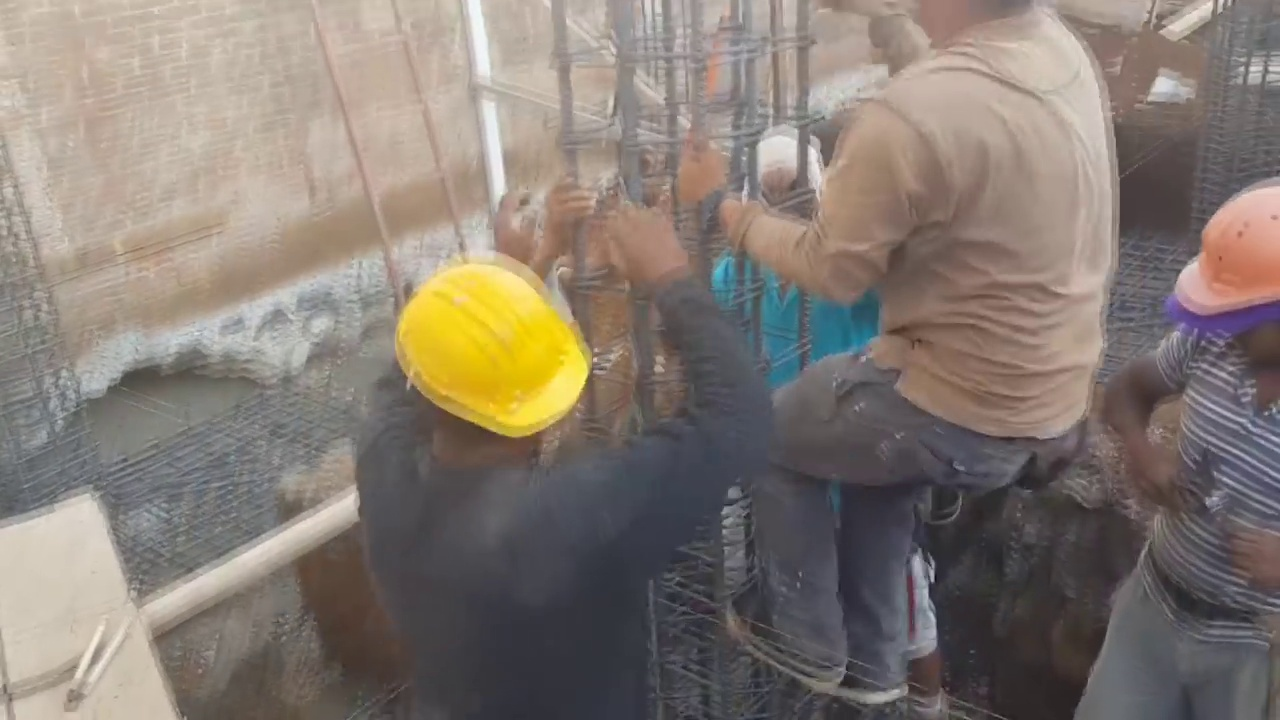helmet: (378, 267, 589, 441), (1184, 179, 1280, 339)
helmet-on: (382, 258, 589, 482), (1180, 176, 1280, 410)
person: (718, 0, 1120, 698), (307, 185, 714, 717), (673, 123, 952, 711), (1068, 170, 1280, 719)
